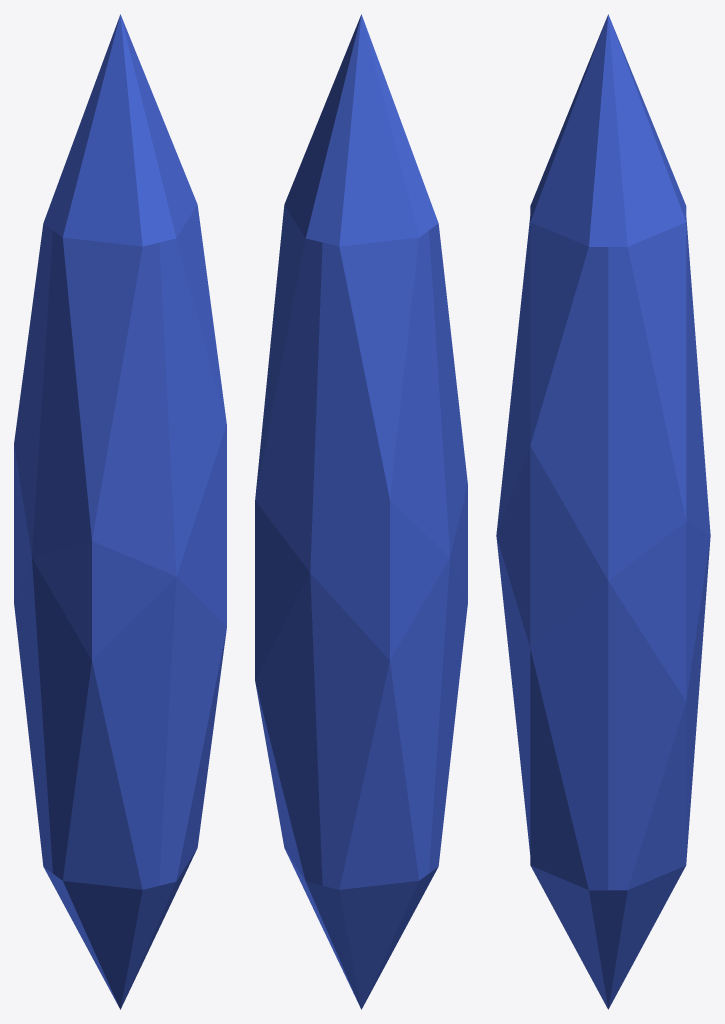
Rendered from singlecrystal.fbx.
3 renders of one model, left to right at view 1: azimuth 30°, elevation 25°; view 2: azimuth 150°, elevation 25°; view 3: azimuth 270°, elevation 25°, orthographic.
Visible parts, largest first — view 1: Cube; view 2: Cube; view 3: Cube.
Part boxes in pixels (x1,y1,x2,y2): Cube: (14,14,226,1009); Cube: (255,14,467,1009); Cube: (496,14,710,1009).
Size of the model in its own units: 21.01 by 110 by 21.47.
